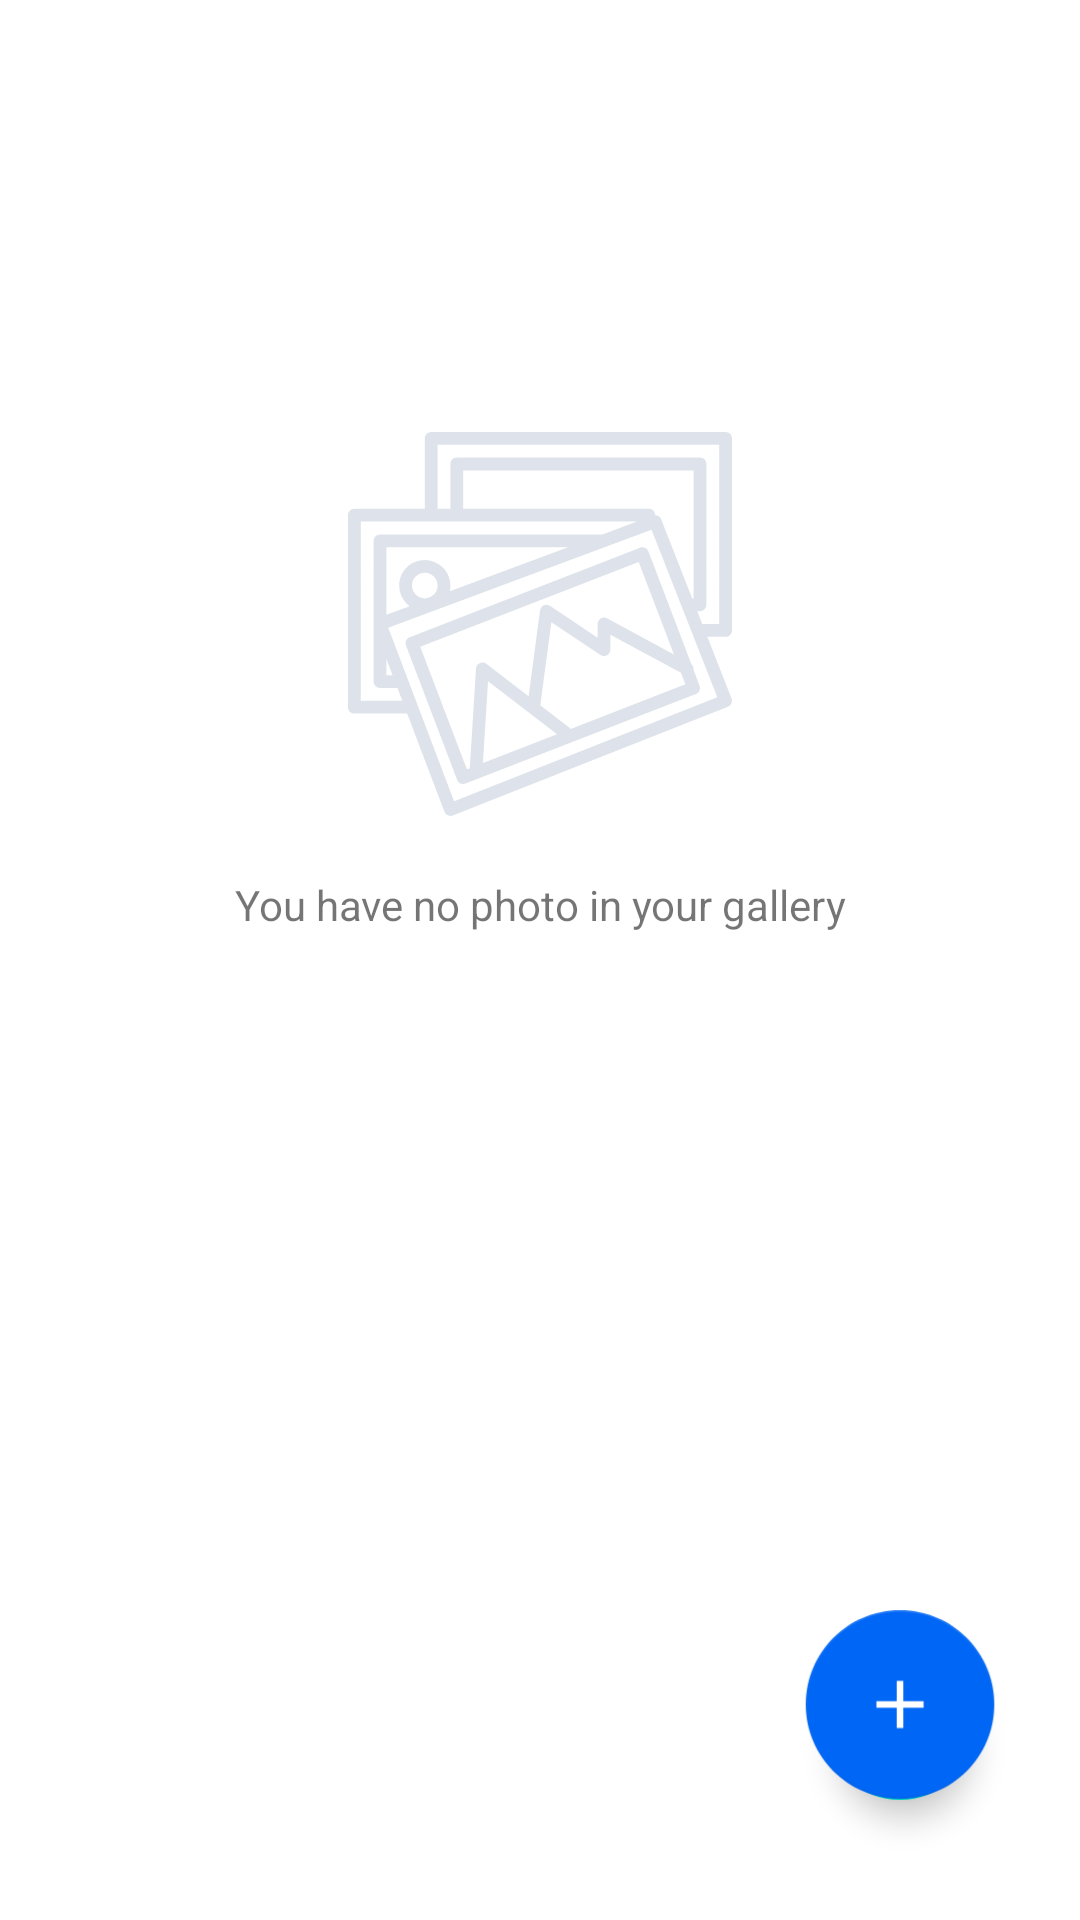

Where to tap for icons on this 1080*1920 app screen, as (x,y):
fab: (900,1713)
